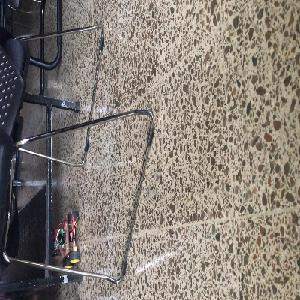Robot: (52, 211, 81, 268)
